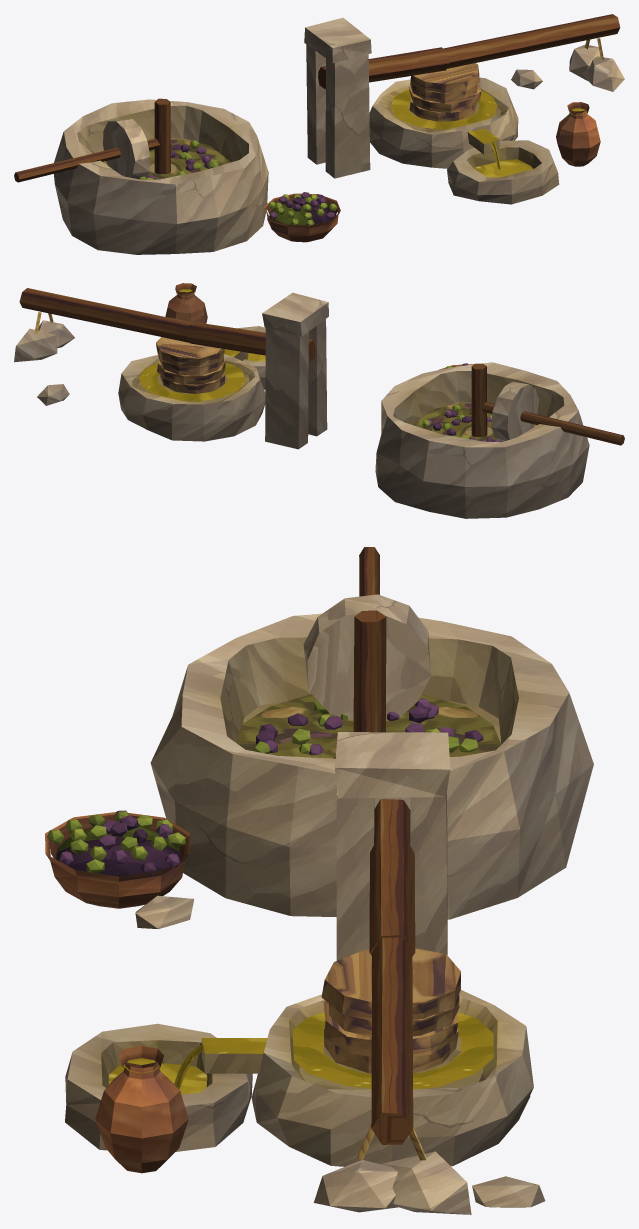
Rendered from prensa.glb.
The picture shows the model from 3 angles, top to bottom: view 1: azimuth 30°, elevation 25°; view 2: azimuth 150°, elevation 25°; view 3: azimuth 270°, elevation 25°; orthographic projection. The views are drawn at different scales.
Visible parts, largest first — view 1: Prensa_Pedra, Prensa_Viga, Prensa_Cestos, Prensa_Mo, Prensa_PoteAzeitonas, Prensa_Jarro, Prensa_AzeiteLaje, Prensa_Pasta, Prensa_AzeiteTanque, Prensa_Azeitonas_1; view 2: Prensa_Pedra, Prensa_Viga, Prensa_Mo, Prensa_Cestos, Prensa_AzeiteLaje, Prensa_Jarro, Prensa_Pasta; view 3: Prensa_Pedra, Prensa_Viga, Prensa_PoteAzeitonas, Prensa_Mo, Prensa_Cestos, Prensa_Jarro, Prensa_Pasta, Prensa_AzeiteLaje, Prensa_Azeitonas_5, Prensa_AzeiteTanque.
Part boxes in pixels (x1,y1,x2,y2): Prensa_Pedra: (54,17,559,254); Prensa_Viga: (318,14,624,91); Prensa_Cestos: (408,63,481,121); Prensa_Mo: (14,119,159,182); Prensa_PoteAzeitonas: (263,192,340,242); Prensa_Jarro: (556,102,600,166); Prensa_AzeiteLaje: (391,90,497,129); Prensa_Pasta: (103,138,230,179); Prensa_AzeiteTanque: (474,159,533,177); Prensa_Azeitonas_1: (171,140,206,159); Prensa_Pedra: (37,292,589,518); Prensa_Viga: (14,288,315,362); Prensa_Mo: (481,381,624,445); Prensa_Cestos: (156,337,225,393); Prensa_AzeiteLaje: (139,363,245,401); Prensa_Jarro: (165,283,207,323); Prensa_Pasta: (412,403,536,440); Prensa_Pedra: (65,610,593,1207); Prensa_Viga: (313,799,471,1214); Prensa_PoteAzeitonas: (45,810,190,908); Prensa_Mo: (303,547,431,719); Prensa_Cestos: (321,948,460,1073); Prensa_Jarro: (95,1046,188,1173); Prensa_Pasta: (236,694,501,758); Prensa_AzeiteLaje: (292,1012,493,1089); Prensa_Azeitonas_5: (253,724,324,755); Prensa_AzeiteTanque: (109,1063,206,1094).
Size of the model in its own units: 6 by 1.27 by 2.41.
Materials: 1 (1 with a texture image).
